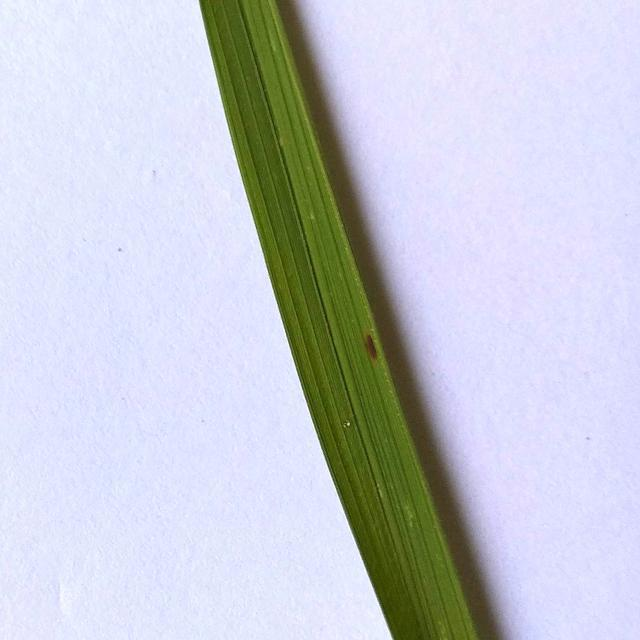brownspots: (360, 322, 386, 379)
